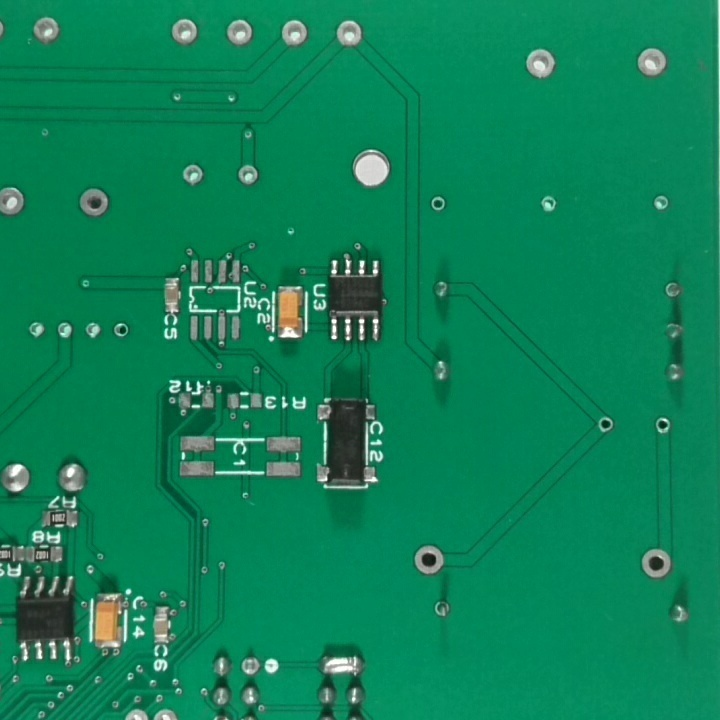F: (521, 44, 560, 86), (74, 182, 112, 222), (632, 43, 673, 80), (636, 546, 676, 581), (410, 544, 448, 577), (334, 16, 368, 51), (168, 17, 204, 49), (279, 17, 313, 49), (224, 15, 256, 49), (30, 15, 64, 46), (1, 183, 30, 216), (179, 159, 210, 189), (234, 160, 261, 189), (239, 652, 263, 679), (432, 594, 454, 622), (536, 192, 560, 217), (23, 318, 48, 342), (661, 277, 684, 302), (650, 190, 672, 216), (427, 190, 449, 215), (81, 318, 103, 343), (53, 318, 76, 341), (652, 415, 676, 437), (111, 319, 133, 342), (594, 413, 616, 435)
P: (316, 649, 368, 679)
